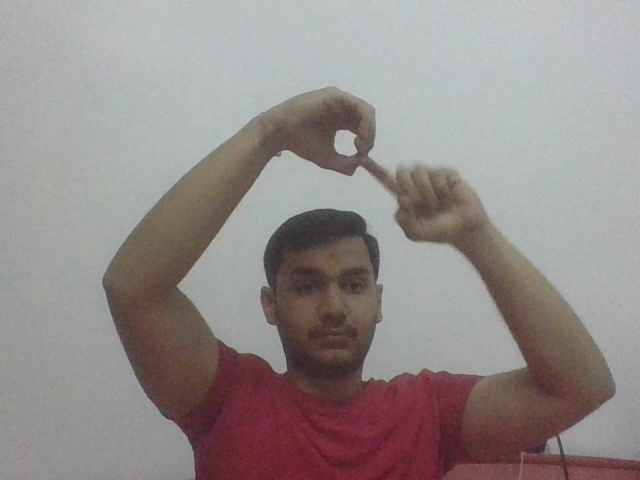Q: (285, 90, 472, 210)
